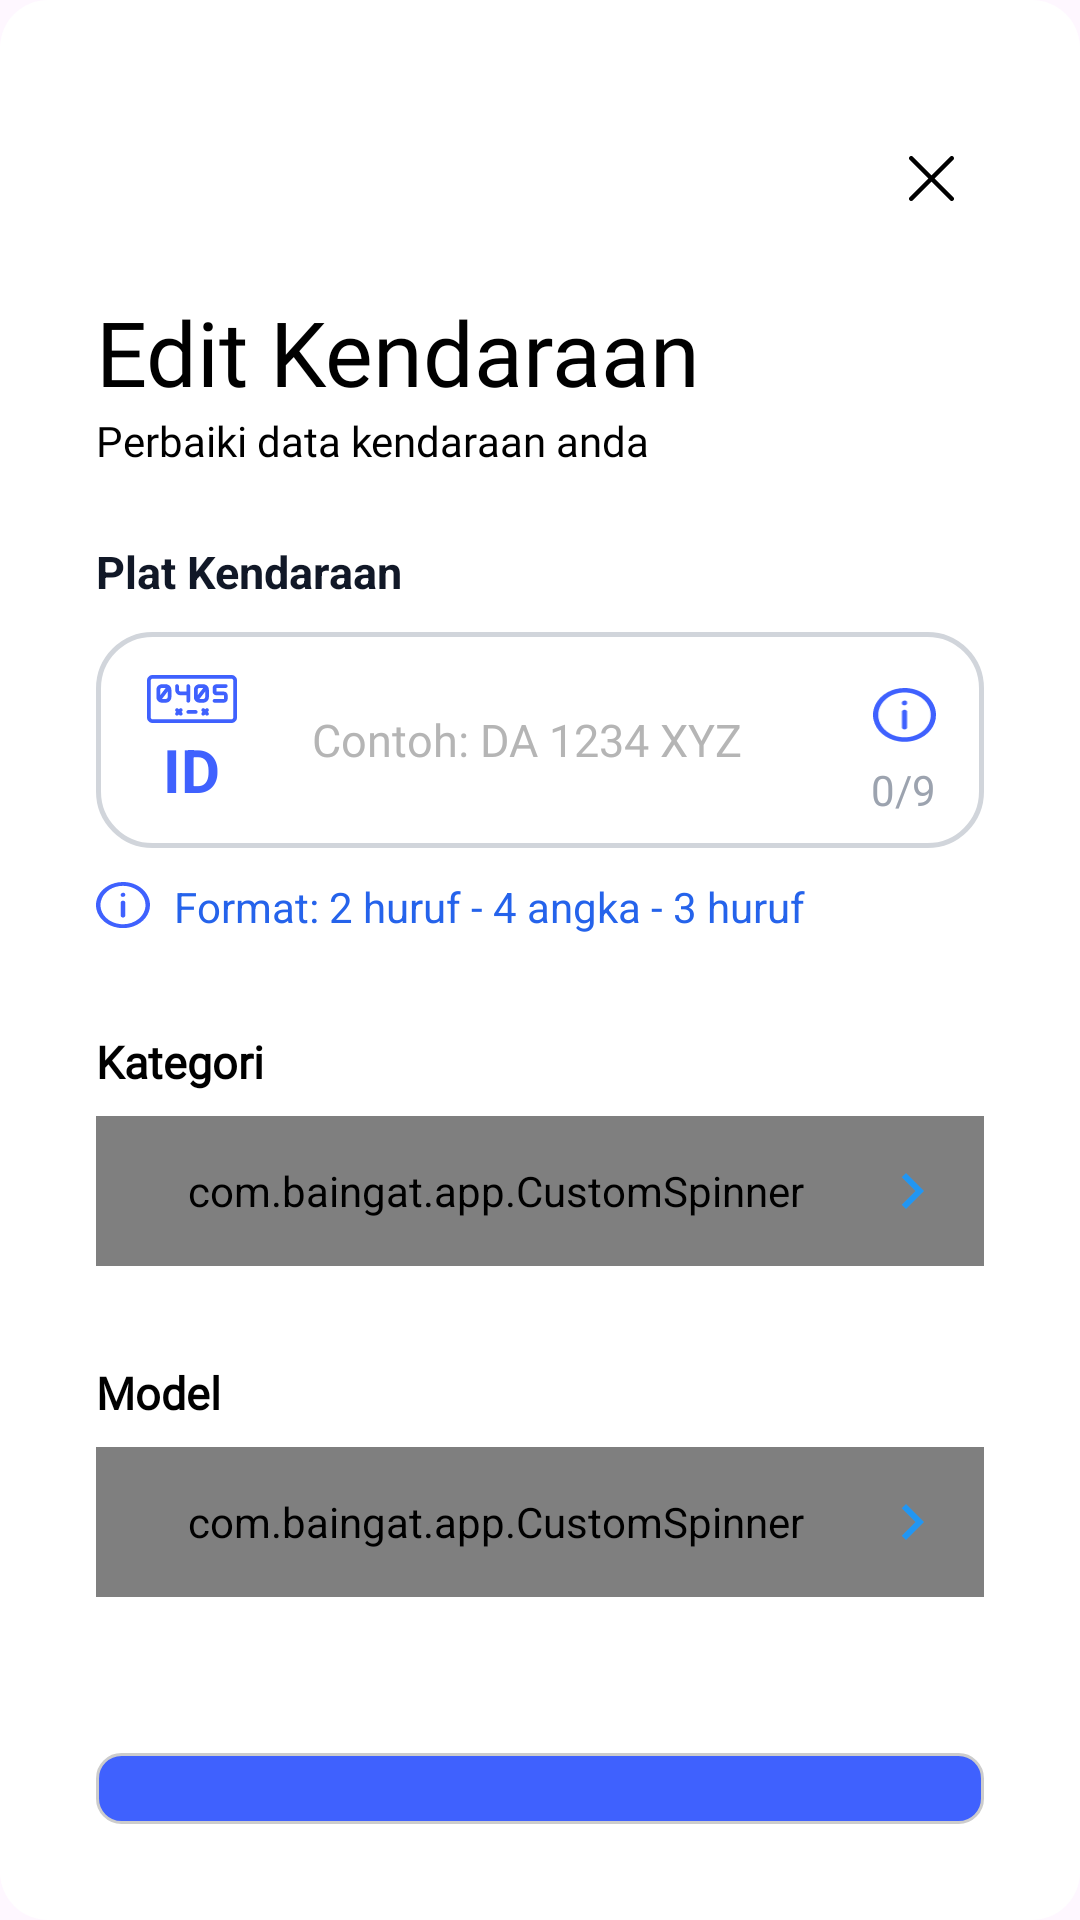

Icon bounding boxes for this 1080 x 1920 phone screenshot, format (x1=x1, y1=y1, x2=x2, y2=y2):
batal: (x1=909, y1=156, x2=954, y2=201)
plat biru: (x1=147, y1=675, x2=237, y2=723)
tentang: (x1=873, y1=688, x2=936, y2=742), (x1=96, y1=882, x2=150, y2=928)
